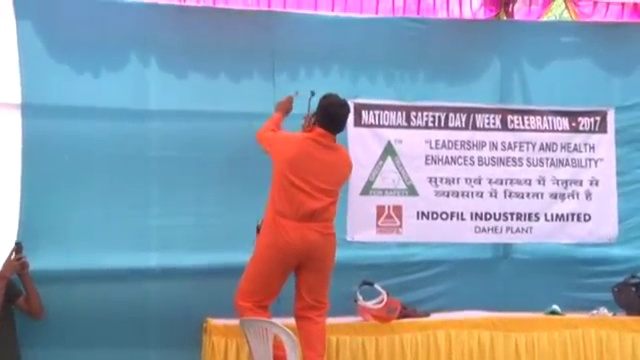helmet_off: (310, 93, 351, 136)
person: (233, 90, 354, 360), (1, 241, 44, 360)
